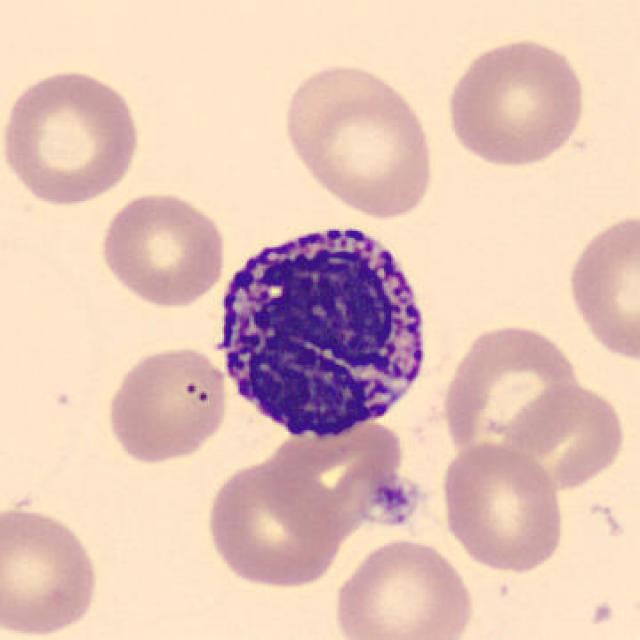Basophil: (206, 208, 441, 448)
Platelets: (363, 473, 421, 527)
RBC: (277, 58, 439, 222), (0, 64, 146, 208), (437, 319, 585, 460), (441, 34, 590, 170), (201, 455, 348, 592), (437, 439, 567, 575), (96, 187, 229, 310), (101, 342, 231, 465), (498, 377, 628, 497), (331, 534, 478, 640), (0, 502, 103, 638), (562, 208, 640, 367)
